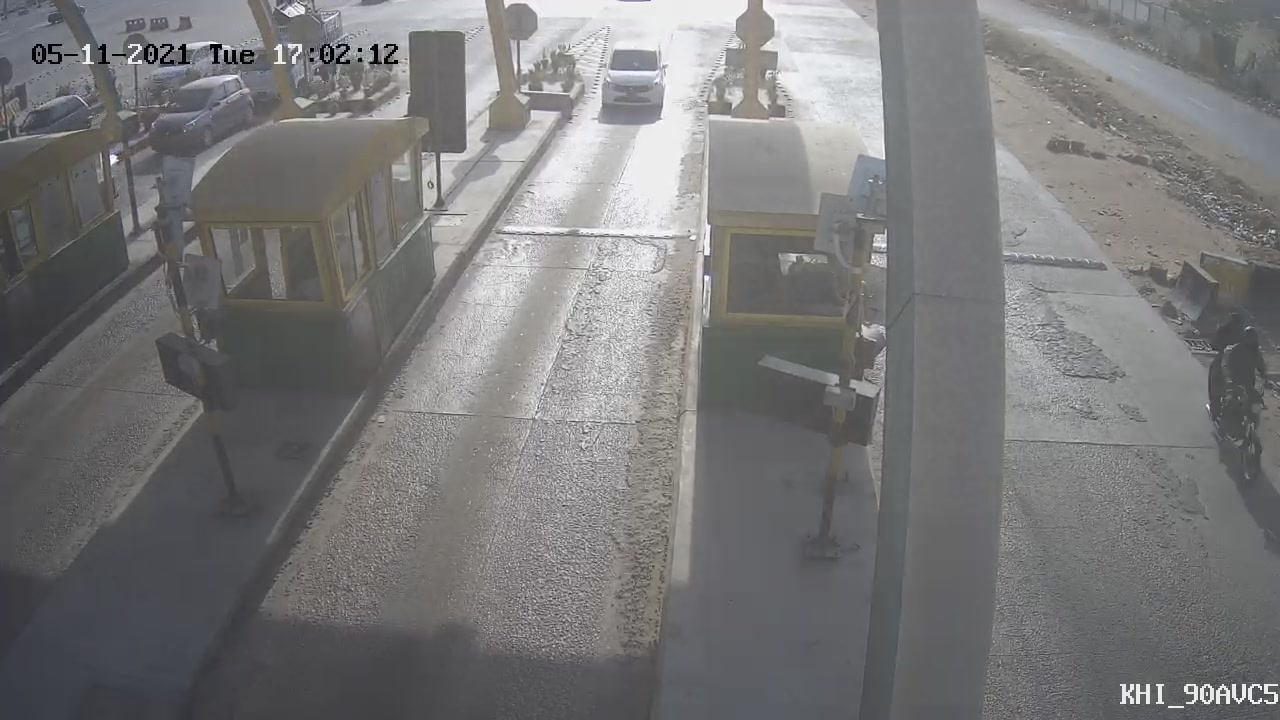F1: (581, 29, 679, 131)
